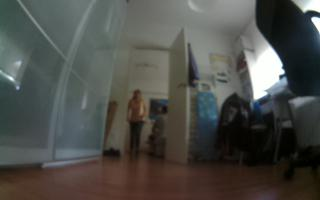person: (123, 86, 149, 161), (146, 105, 171, 158)
